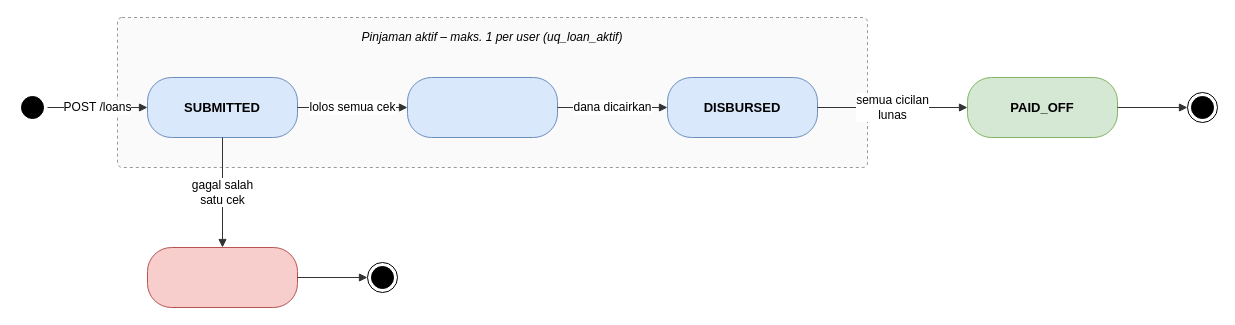
Image size: 1235x325. Some labels were removed from this diagram. The shapes that lost their labels are listed below. From the top down, each one's centre as x and y in pixels, then its label:
At (482,107): "APPROVED".
At (222,277): "REJECTED".
